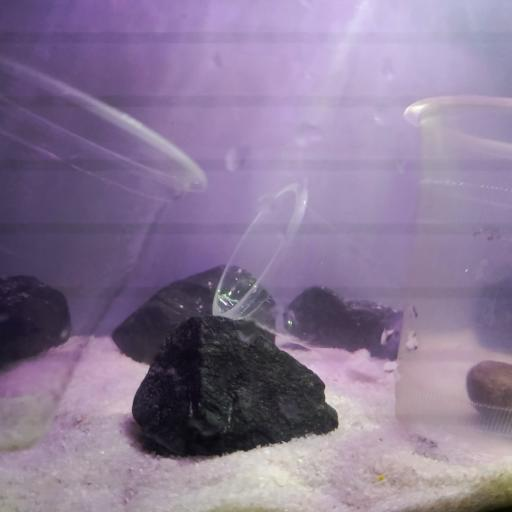plastic_cup: (0, 56, 209, 455), (396, 94, 512, 467), (210, 180, 410, 382)
